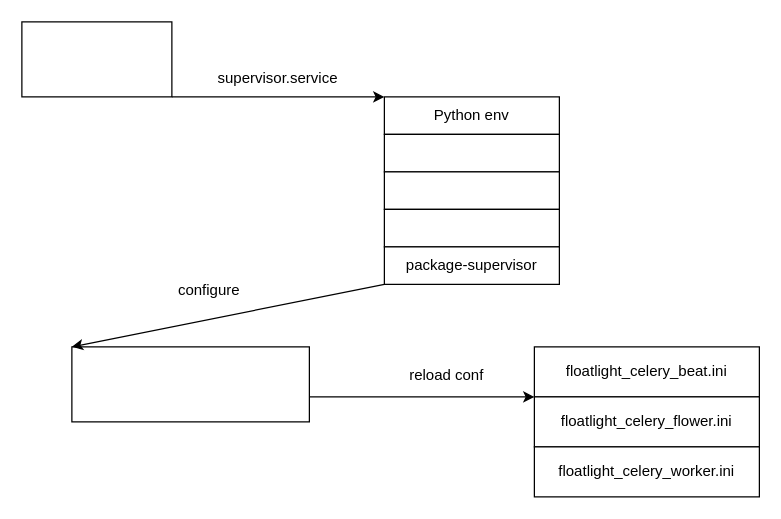
Some shapes in this 781 by 519 pixel diagram are drawn without their labels. The shapes that lost their labels are listed below. From the top down, each one's box as (x1, y1, x2, y2) in pixels, then its label:
(21, 21, 172, 97): system process- supervisor
(71, 346, 309, 422): supervisor.conf
